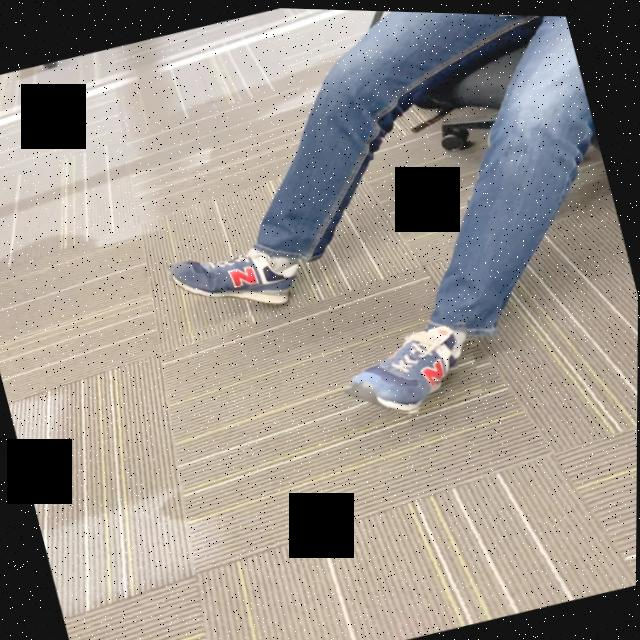shoe: (355, 322, 470, 411), (169, 252, 305, 307)
